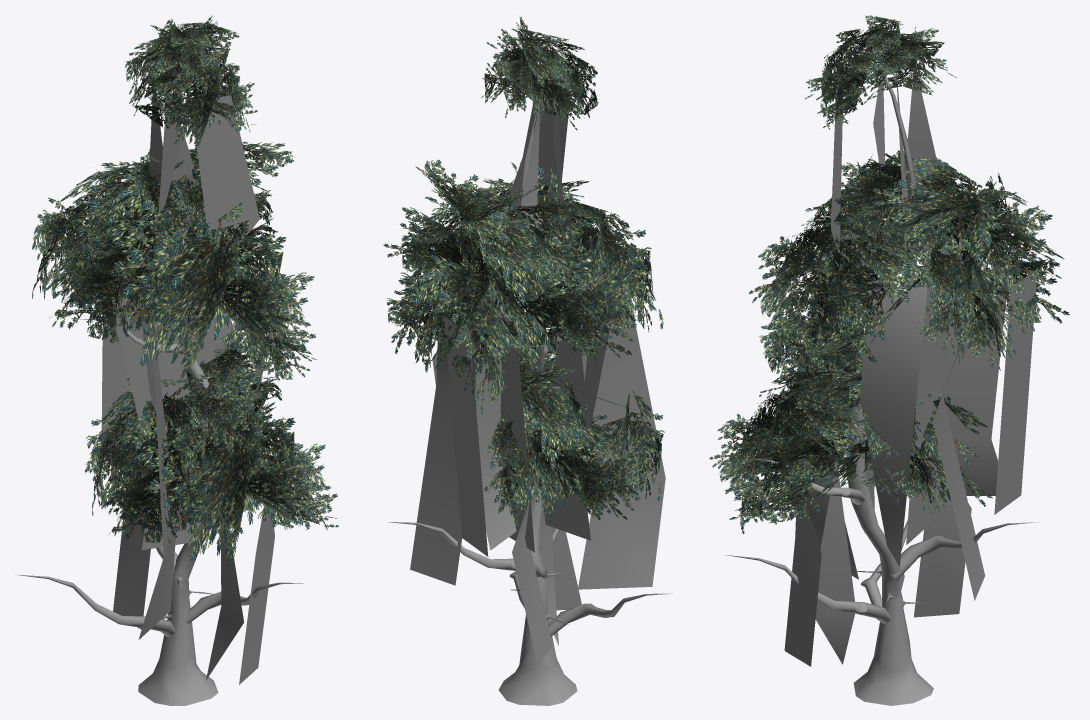
The model's file is elmtree_lod1.fbx.
The picture shows the model from 3 angles, left to right: view 1: azimuth 30°, elevation 25°; view 2: azimuth 150°, elevation 25°; view 3: azimuth 270°, elevation 25°; orthographic projection. The views are drawn at different scales.
Parts seen in each view (by area): view 1: Default_Layer; view 2: Default_Layer; view 3: Default_Layer.
Part boxes in pixels (x1,y1,x2,y2): Default_Layer: (16, 15, 338, 705); Default_Layer: (383, 17, 672, 705); Default_Layer: (709, 15, 1069, 705).
Size of the model in its own units: 682 by 1573 by 781.
